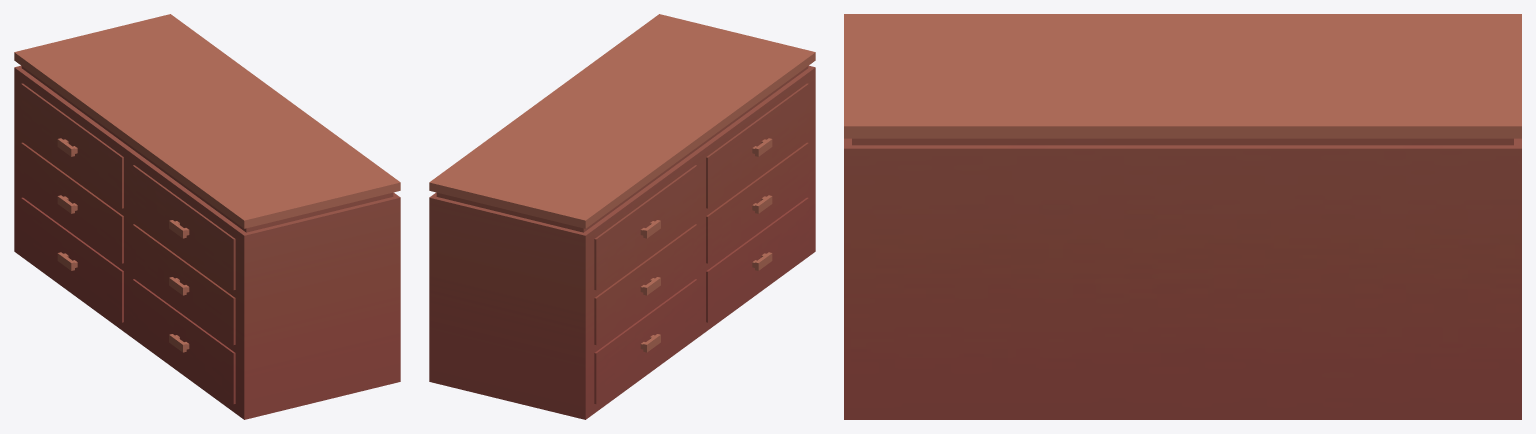
Rendered from SM_Shelf_1_01.fbx.
3 renders of one model, left to right at view 1: azimuth 30°, elevation 25°; view 2: azimuth 150°, elevation 25°; view 3: azimuth 270°, elevation 25°, orthographic. The views are drawn at different scales.
Visible parts, largest first — view 1: SM_Shelf_1_01; view 2: SM_Shelf_1_01; view 3: SM_Shelf_1_01.
Boxes of the visible parts, <box> form: SM_Shelf_1_01: <box>14,14,400,419</box>; SM_Shelf_1_01: <box>429,14,815,419</box>; SM_Shelf_1_01: <box>844,14,1521,419</box>.
Bounding box in the file's own units: 88.43 × 102 × 213.
